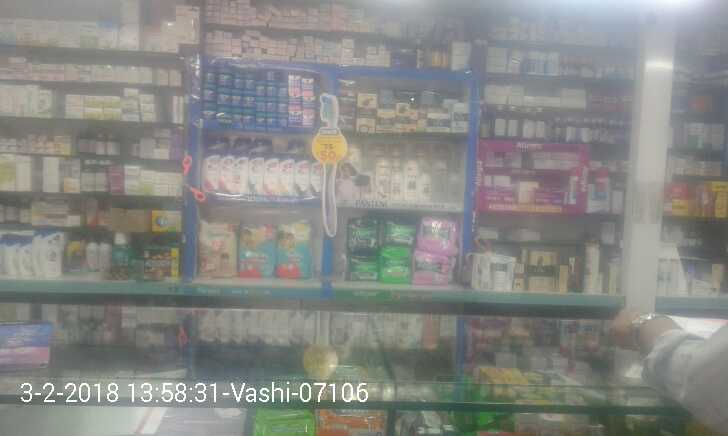beauty: (196, 148, 327, 201)
pharmacy: (203, 60, 290, 129), (276, 212, 319, 285), (417, 207, 465, 257), (237, 223, 277, 280), (410, 249, 458, 286), (340, 249, 382, 286), (382, 215, 419, 254), (348, 215, 382, 256), (381, 251, 414, 284)
